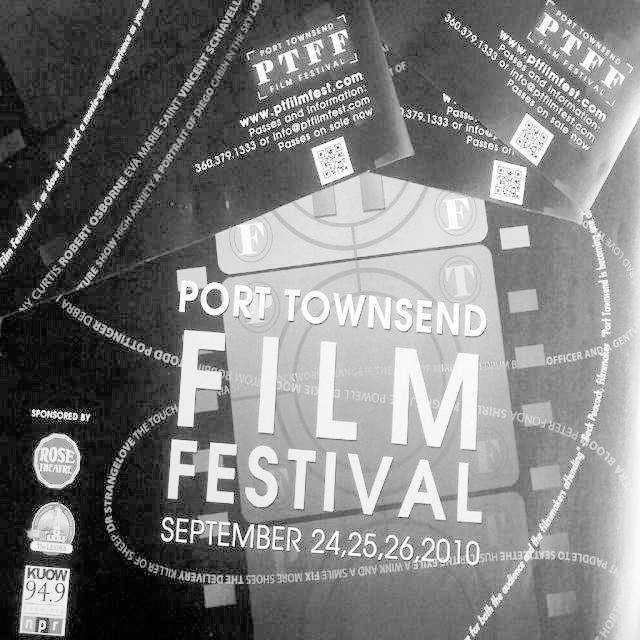qr_code: (515, 119, 548, 159), (316, 142, 348, 179), (494, 165, 522, 199)
